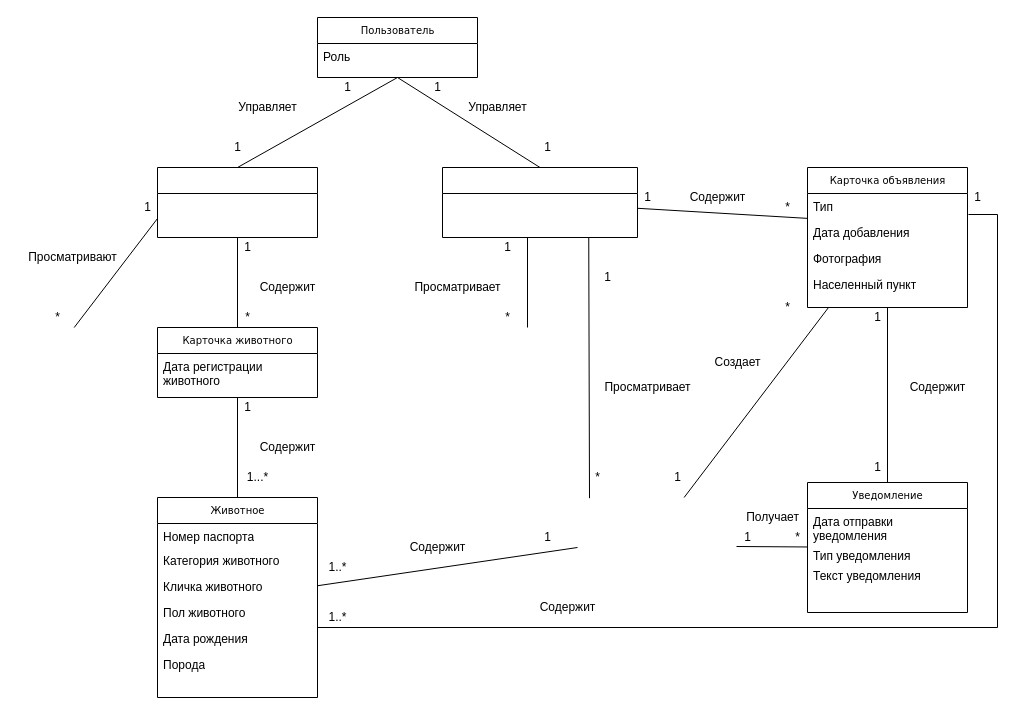
Some shapes in this 1016 by 715 pixel diagram are drawn without their labels. The centre of each missing label's shape, as x and y in pixels:
"Реестр (закрытый)" goes at pixel 237 202.
"Реестр объявлений (открытый)" goes at pixel 540 202.
